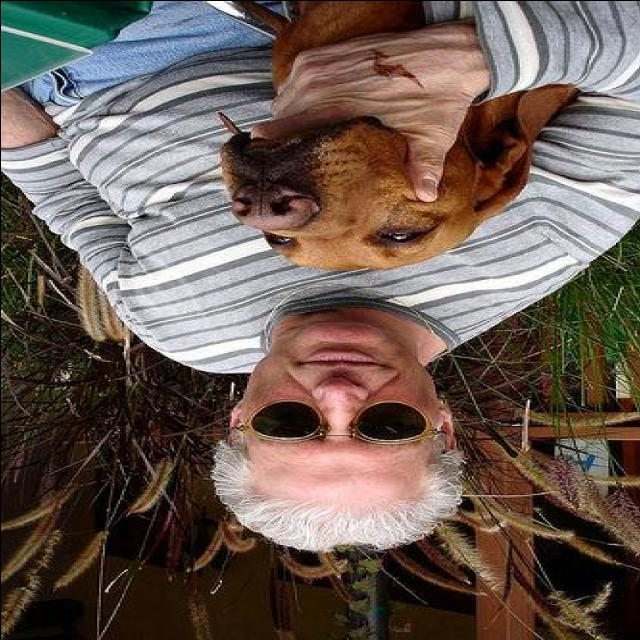vizsla: (219, 4, 573, 272)
